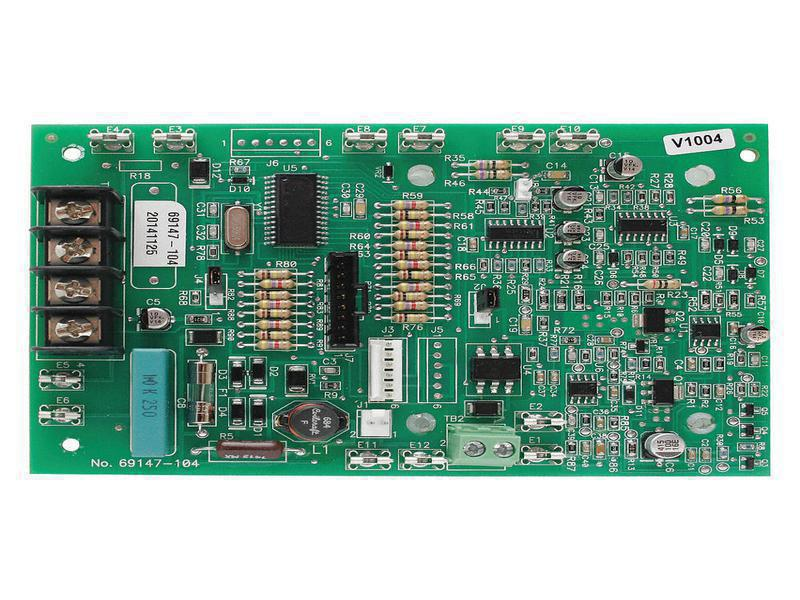SMD capacitor: (355, 196, 367, 219), (544, 170, 569, 179), (467, 235, 479, 252), (521, 314, 531, 333), (319, 366, 339, 375), (207, 225, 218, 241), (208, 201, 218, 218), (341, 202, 351, 219)
SMD resistor: (571, 290, 585, 312), (319, 379, 340, 393), (539, 289, 550, 310), (556, 290, 566, 312), (207, 243, 219, 261), (521, 283, 531, 304), (601, 291, 613, 307), (730, 291, 739, 311), (631, 291, 641, 308), (500, 199, 511, 214), (486, 198, 495, 215), (616, 291, 625, 308)
electrolytic capacitor: (643, 430, 685, 461), (604, 153, 642, 183), (553, 184, 588, 215), (139, 307, 173, 333), (557, 219, 585, 243), (741, 323, 769, 347), (558, 249, 586, 272)
inductor: (209, 440, 288, 464)
inductor_chunk: (274, 402, 350, 443)
resistor: (688, 191, 763, 207), (375, 311, 452, 326), (242, 266, 311, 281), (688, 206, 761, 219), (240, 298, 310, 311), (240, 308, 310, 321), (454, 158, 524, 171), (377, 249, 451, 261), (239, 280, 311, 292), (379, 200, 451, 212), (239, 319, 310, 331), (455, 169, 526, 181), (240, 340, 310, 352), (376, 300, 451, 311), (239, 329, 313, 340), (378, 292, 452, 303), (378, 270, 451, 281), (378, 280, 451, 291), (379, 210, 451, 221), (240, 290, 310, 301), (379, 221, 453, 231), (627, 279, 694, 290), (378, 241, 450, 251), (379, 231, 449, 241), (378, 262, 454, 271)
